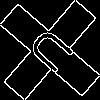U: (25, 25, 84, 82)
